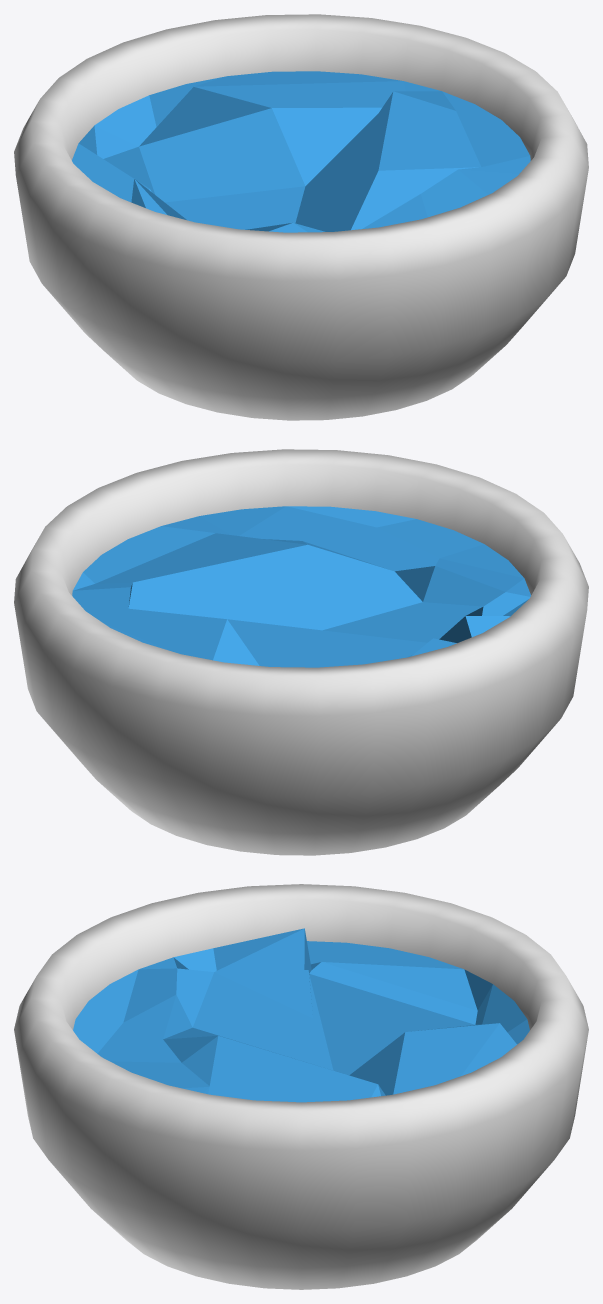
Rendered from water.fbx.
The picture shows the model from 3 angles, top to bottom: view 1: azimuth 30°, elevation 25°; view 2: azimuth 150°, elevation 25°; view 3: azimuth 270°, elevation 25°; orthographic projection.
Visible parts, largest first — view 1: water; view 2: water; view 3: water.
Boxes of the visible parts, x1,y1,x2,y2 form: water: (14,14,588,420); water: (14,449,588,855); water: (14,884,588,1289).
Size of the model in its own units: 252 by 102 by 252.
